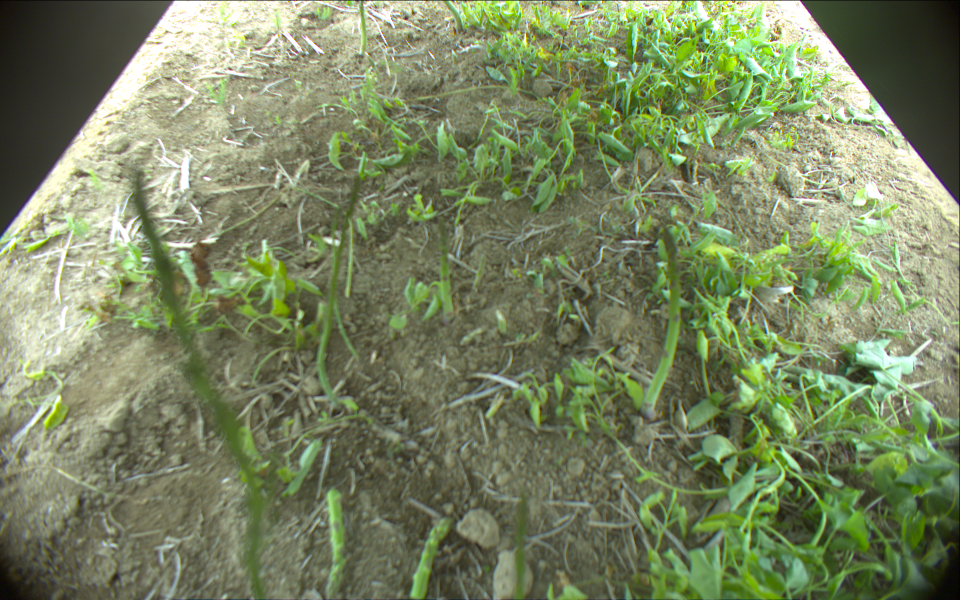aspa: (130, 169, 265, 600), (315, 173, 363, 409), (642, 219, 682, 415), (409, 516, 450, 600), (322, 489, 347, 600), (505, 498, 531, 600), (435, 215, 455, 319), (443, 1, 463, 30), (359, 1, 368, 56)
